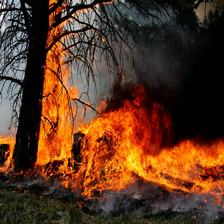fire: (70, 96, 220, 206), (34, 2, 71, 179), (2, 131, 25, 177)
